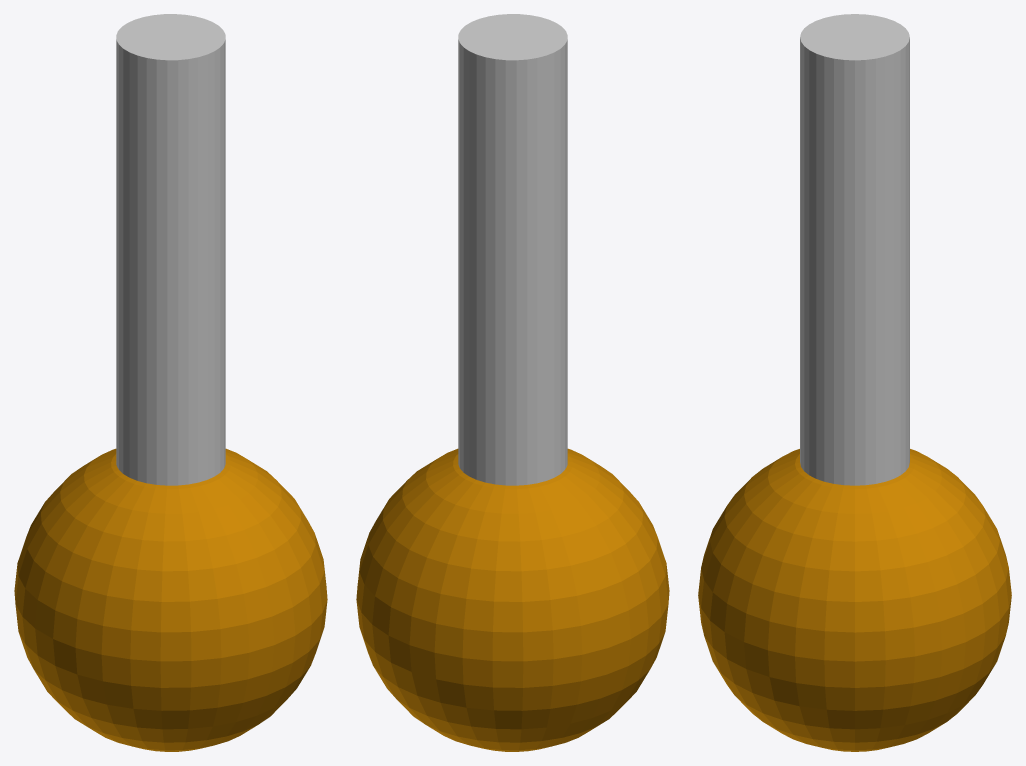
Rendered from buoy_north.obj.
The picture shows the model from 3 angles, left to right: view 1: azimuth 30°, elevation 25°; view 2: azimuth 150°, elevation 25°; view 3: azimuth 270°, elevation 25°; orthographic projection.
Visible parts, largest first — view 1: Sphere.002, Cylinder.020; view 2: Sphere.002, Cylinder.020; view 3: Sphere.002, Cylinder.020.
Part boxes in pixels (x1,y1,x2,y2): Sphere.002: (14,448,327,751); Cylinder.020: (116,14,225,485); Sphere.002: (356,448,669,751); Cylinder.020: (458,14,567,485); Sphere.002: (698,449,1011,751); Cylinder.020: (800,14,909,485).
Size of the model in its own units: 0.4 by 0.985 by 0.4.
